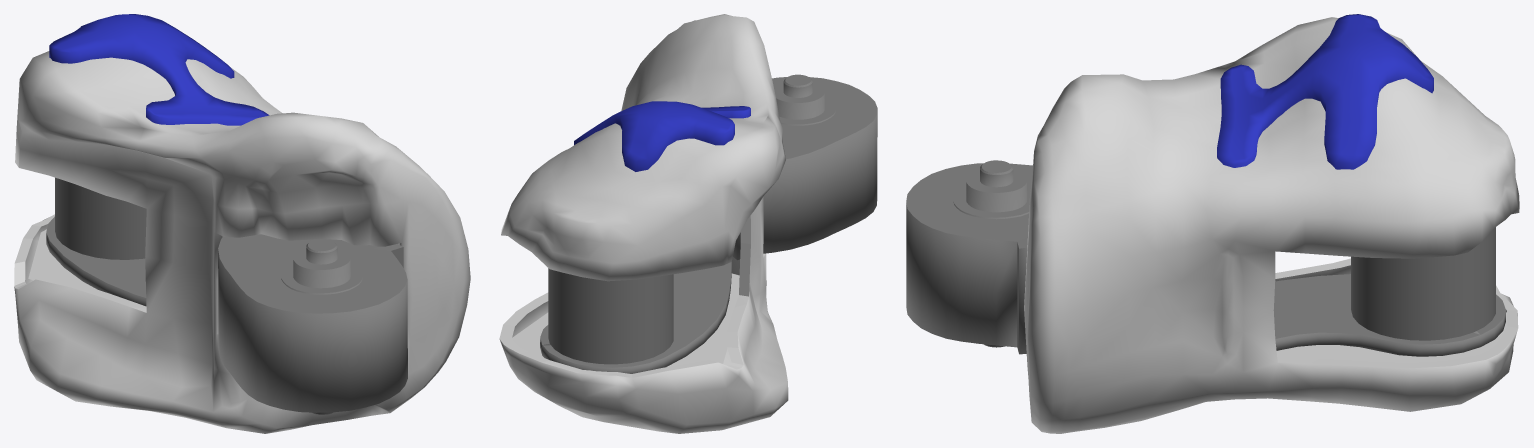
Rendered from LKneePitch.dae.
3 views of the same model, side by side, from view 1: azimuth 30°, elevation 25°; view 2: azimuth 150°, elevation 25°; view 3: azimuth 270°, elevation 25° (orthographic). The views are drawn at different scales.
Visible parts, largest first — view 1: root_010; view 2: root_010; view 3: root_010.
Part boxes in pixels (<box>): root_010: <box>14,14,470,433</box>; root_010: <box>499,14,877,433</box>; root_010: <box>906,14,1519,433</box>.
Size of the model in its own units: 89.68 by 148 by 93.29.
